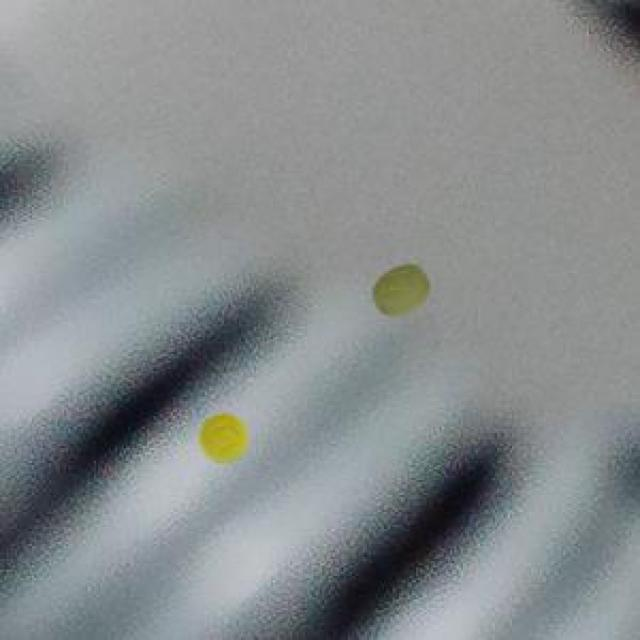Decolgen: (181, 405, 266, 474), (367, 254, 439, 325)
